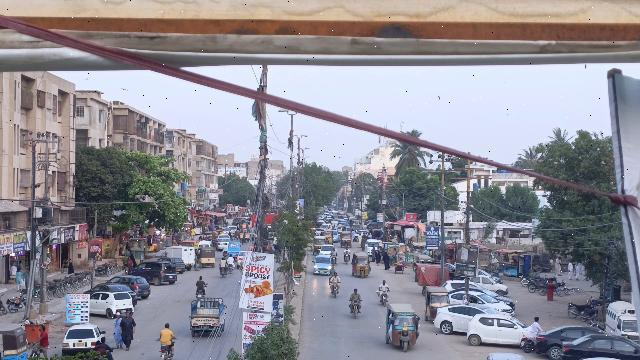Bike: (519, 335, 538, 355), (348, 298, 364, 321), (158, 342, 178, 360), (376, 290, 391, 306), (330, 282, 340, 298), (195, 288, 206, 301)
Car: (464, 311, 532, 348), (533, 323, 597, 358), (432, 303, 497, 337), (559, 333, 639, 360), (59, 321, 105, 355), (90, 288, 135, 319), (131, 259, 179, 285), (109, 273, 152, 301), (311, 255, 334, 276)
Person: (119, 311, 139, 350), (35, 323, 50, 359), (110, 311, 124, 348), (160, 322, 175, 344), (194, 274, 209, 291), (530, 314, 542, 334), (378, 278, 391, 293), (350, 286, 362, 302), (329, 270, 342, 284)
Rickshaw: (384, 302, 420, 352), (422, 285, 450, 325), (349, 251, 370, 280), (196, 245, 215, 270)
Suzuki: (188, 296, 228, 337), (603, 298, 639, 342)
Truck: (166, 243, 197, 269)
